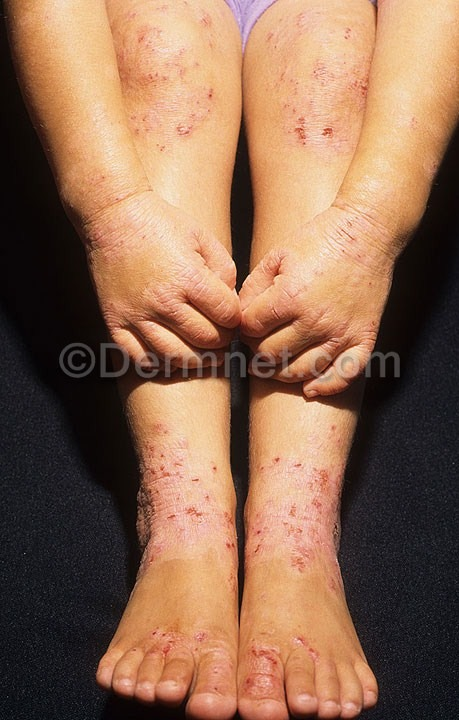Eczema: (244, 405, 345, 607), (106, 1, 232, 155), (126, 420, 238, 580), (259, 10, 375, 155), (59, 171, 161, 270), (129, 617, 233, 700), (241, 630, 328, 708), (318, 195, 395, 279), (238, 251, 301, 318), (163, 239, 214, 318), (410, 114, 438, 181), (315, 312, 359, 344)
